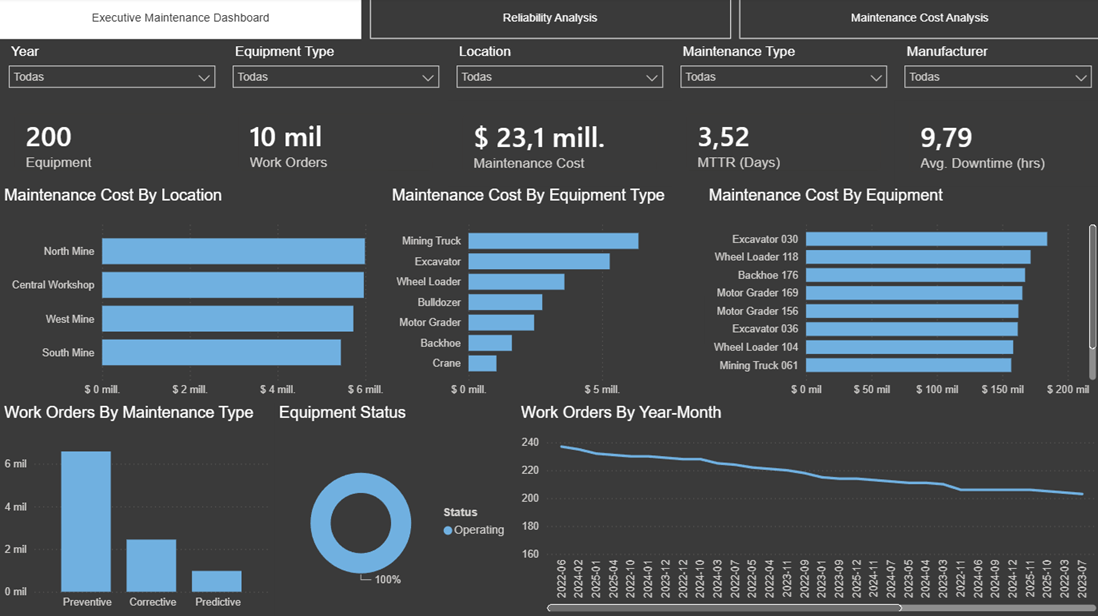

Layout of this report page (visuals, bound fields, positions):
{"tool":"powerbi","page":{"name":"Executive Maintenance Dashboard","canvas":[1280,720],"ordinal":0},"visuals":[{"type":"slicer","fields":{"Values":["Calendar.Year"]},"box":[0,49.3,260,70],"z":0},{"type":"slicer","fields":{"Values":["EQUIPMENT.Equipment Type"]},"box":[260.5,49.3,260,70],"z":1000},{"type":"slicer","fields":{"Values":["EQUIPMENT.Location"]},"box":[520.9,49.3,260,70],"z":2000},{"type":"slicer","fields":{"Values":["WORKORDERS.Maintenance Type"]},"box":[781.4,49.3,260.5,69.8],"z":3000},{"type":"slicer","fields":{"Values":["EQUIPMENT.Manufacturer"]},"box":[1041.9,49.3,238.4,69.8],"z":4000},{"type":"cardVisual","fields":{"Data":["MeasuresM.Total Equipment"]},"box":[0,118.6,260,100],"z":5000},{"type":"cardVisual","fields":{"Data":["MeasuresM.Total Waork Orders"]},"box":[260.5,118.6,260,100],"z":6000},{"type":"cardVisual","fields":{"Data":["MeasuresM.Total Maintenance Cost"]},"box":[520.9,119.8,260,100],"z":7000},{"type":"cardVisual","fields":{"Data":["MeasuresM.MTTR (Days)"]},"box":[781.4,118.6,260,100],"z":8000},{"type":"cardVisual","fields":{"Data":["MeasuresM.Average Downtime"]},"box":[1040.7,119.8,239.5,100],"z":9000},{"type":"lineChart","title":"Work Orders By Year-Month","fields":{"Category":["Calendar.YearMonth"],"Y":["MeasuresM.Total Work Orders"]},"box":[601.2,472.1,679.1,247.7],"z":10000},{"type":"barChart","title":"Maintenance Cost By Equipment Type","fields":{"Category":["EQUIPMENT.Equipment Type"],"Y":["MeasuresM.Total Maintenance Cost"]},"box":[451.2,219.8,368.6,252.3],"z":11000},{"type":"columnChart","title":"Work Orders By Maintenance Type","fields":{"Category":["WORKORDERS.Maintenance Type"],"Y":["MeasuresM.Total Work Orders"]},"box":[0,472.1,319.8,247.7],"z":12000},{"type":"donutChart","title":"Equipment Status","fields":{"Category":["EQUIPMENT.Status"],"Y":["MeasuresM.Total Equipment"]},"box":[319.8,472.1,281.4,247.7],"z":13000},{"type":"clusteredBarChart","title":"Maintenance Cost By Location","fields":{"Category":["EQUIPMENT.Location"],"Y":["MeasuresM.Total Maintenance Cost"]},"box":[0,219.8,451.2,252.3],"z":14000},{"type":"barChart","title":"Maintenance Cost By Equipment ","fields":{"Category":["EQUIPMENT.Equipment Name"],"Y":["MeasuresM.Total Maintenance Cost"]},"box":[819.8,219.8,460.5,252.3],"z":15000},{"type":"pageNavigator","box":[0,0,1280.2,48.8],"z":15001}]}

Visuals, with their boxes in screenshot pixels (x1, y1, x2, y2), scaled from the page's 1280x720 canvas onto the 1098x616 screenshot:
slicer - Calendar.Year: region(0, 42, 223, 102)
slicer - EQUIPMENT.Equipment Type: region(223, 42, 446, 102)
slicer - EQUIPMENT.Location: region(447, 42, 670, 102)
slicer - WORKORDERS.Maintenance Type: region(670, 42, 894, 102)
slicer - EQUIPMENT.Manufacturer: region(894, 42, 1097, 102)
cardVisual - MeasuresM.Total Equipment: region(0, 101, 223, 187)
cardVisual - MeasuresM.Total Waork Orders: region(223, 101, 446, 187)
cardVisual - MeasuresM.Total Maintenance Cost: region(447, 102, 670, 188)
cardVisual - MeasuresM.MTTR (Days): region(670, 101, 893, 187)
cardVisual - MeasuresM.Average Downtime: region(893, 102, 1097, 188)
"Work Orders By Year-Month" lineChart: region(516, 404, 1097, 615)
"Maintenance Cost By Equipment Type" barChart: region(387, 188, 703, 404)
"Work Orders By Maintenance Type" columnChart: region(0, 404, 274, 615)
"Equipment Status" donutChart: region(274, 404, 516, 615)
"Maintenance Cost By Location" clusteredBarChart: region(0, 188, 387, 404)
"Maintenance Cost By Equipment " barChart: region(703, 188, 1097, 404)
pageNavigator: region(0, 0, 1097, 42)
